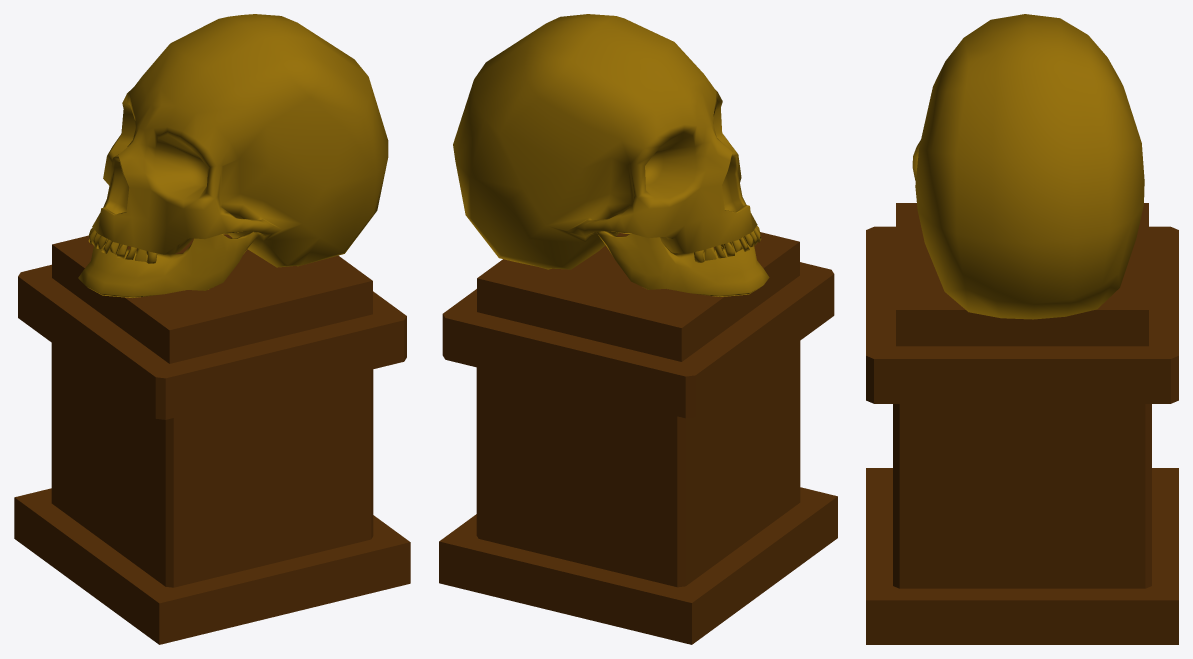
Rendered from Weight_Mortality_final_Vanessa_01.fbx.
3 renders of one model, left to right at view 1: azimuth 30°, elevation 25°; view 2: azimuth 150°, elevation 25°; view 3: azimuth 270°, elevation 25°, orthographic. The views are drawn at different scales.
Parts seen in each view (by area): view 1: mesh_Skeleton_Base_Rest, mesh_Weight_Skeleton_Skull, mesh_Skeleton_Base_Name, mesh_Weight_Skeleton_Jaw; view 2: mesh_Skeleton_Base_Rest, mesh_Weight_Skeleton_Skull, mesh_Skeleton_Base_Name, mesh_Weight_Skeleton_Jaw; view 3: mesh_Skeleton_Base_Rest, mesh_Weight_Skeleton_Skull, mesh_Skeleton_Base_Name.
Boxes of the visible parts, x1,y1,x2,y2 form: mesh_Skeleton_Base_Rest: [14, 234, 410, 644]; mesh_Weight_Skeleton_Skull: [88, 14, 388, 267]; mesh_Skeleton_Base_Name: [51, 343, 373, 587]; mesh_Weight_Skeleton_Jaw: [78, 231, 258, 297]; mesh_Skeleton_Base_Rest: [439, 232, 837, 644]; mesh_Weight_Skeleton_Skull: [453, 14, 761, 269]; mesh_Skeleton_Base_Name: [476, 341, 800, 587]; mesh_Weight_Skeleton_Jaw: [596, 231, 769, 296]; mesh_Skeleton_Base_Rest: [866, 203, 1178, 644]; mesh_Weight_Skeleton_Skull: [912, 14, 1144, 319]; mesh_Skeleton_Base_Name: [893, 404, 1151, 588].
Bounding box in the file's own units: 7.59 × 13.11 × 6.52.
